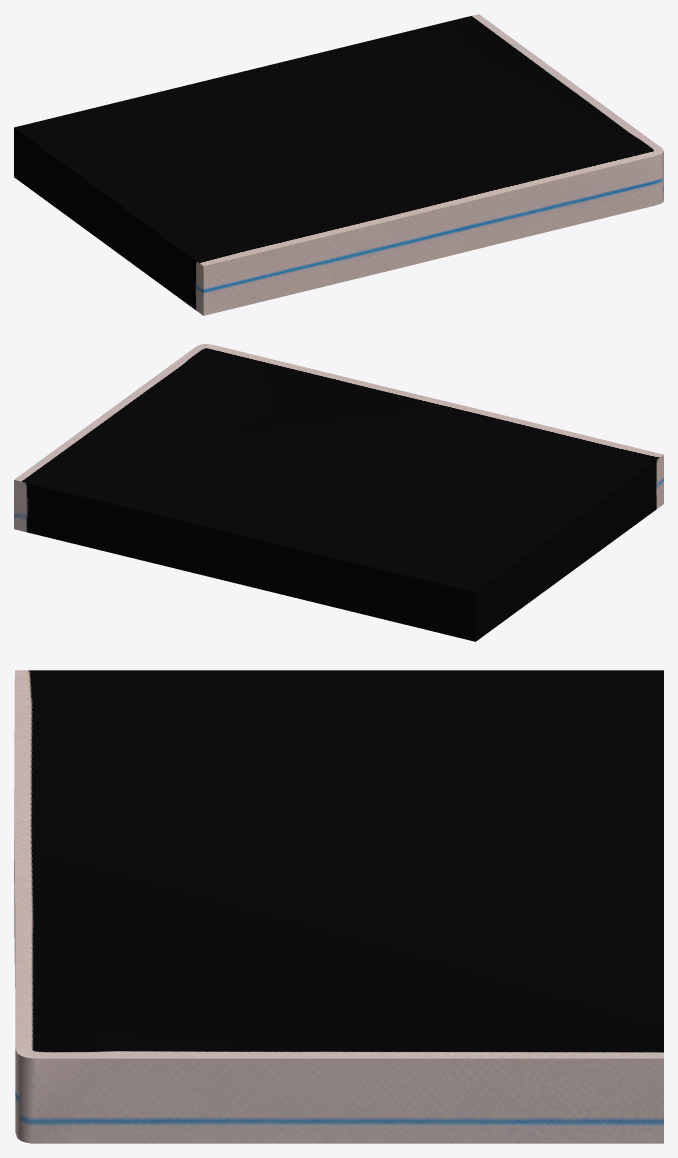
Rendered from 10-roof-front-right.fbx.
The picture shows the model from 3 angles, top to bottom: view 1: azimuth 30°, elevation 25°; view 2: azimuth 150°, elevation 25°; view 3: azimuth 270°, elevation 25°; orthographic projection. The views are drawn at different scales.
Visible parts, largest first — view 1: roof-front-right; view 2: roof-front-right; view 3: roof-front-right.
Part boxes in pixels (x1,y1,x2,y2): roof-front-right: (14, 14, 663, 315); roof-front-right: (14, 344, 663, 641); roof-front-right: (14, 670, 663, 1143).
Size of the model in its own units: 7485 by 765 by 5295.
1 material, 1 textured.
